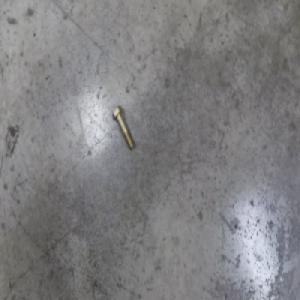Bolt: (114, 106, 137, 151)
